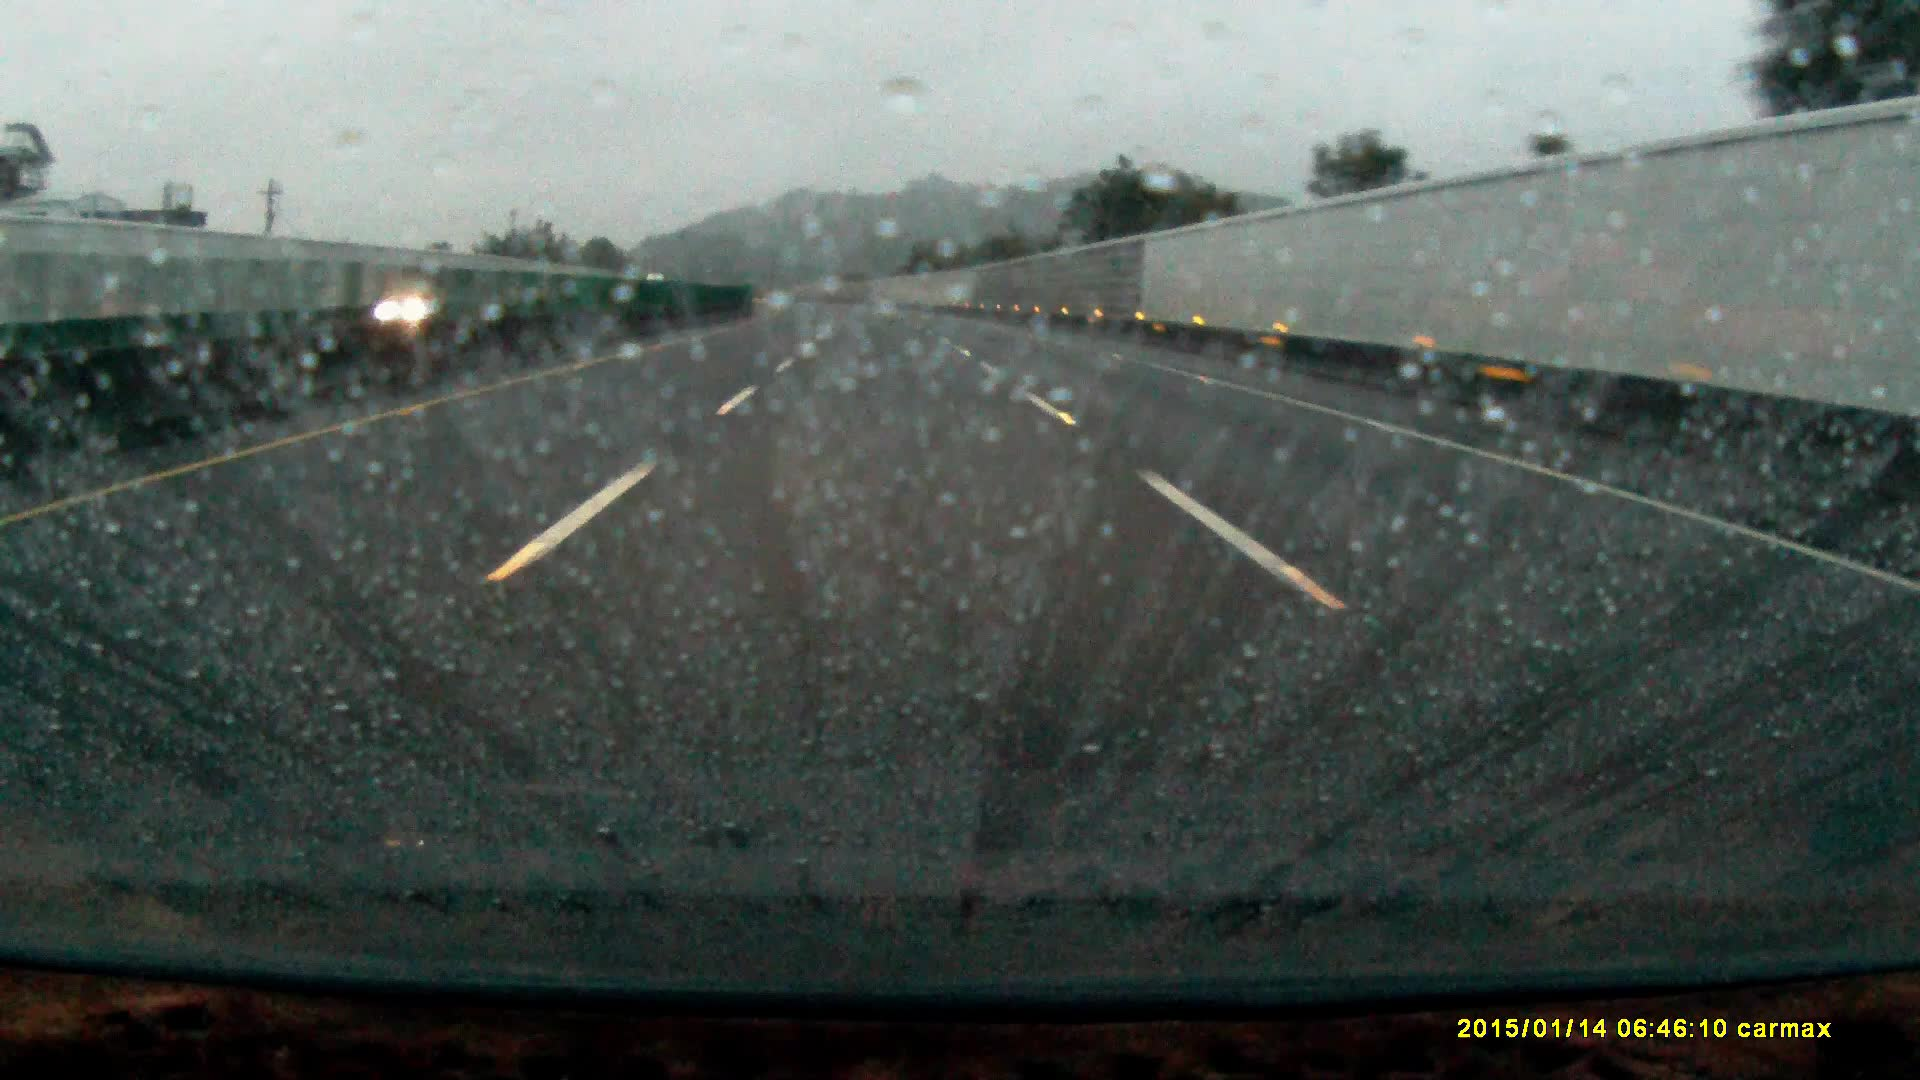vehicle: (382, 293, 444, 320)
